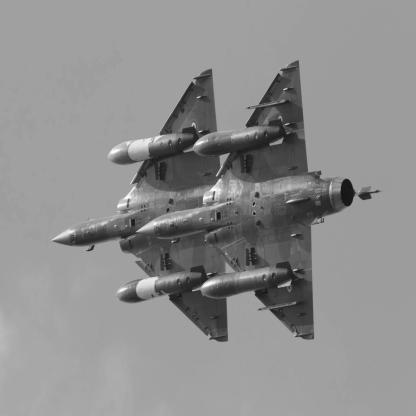Mirage2000: (136, 61, 386, 341), (51, 70, 229, 343)
